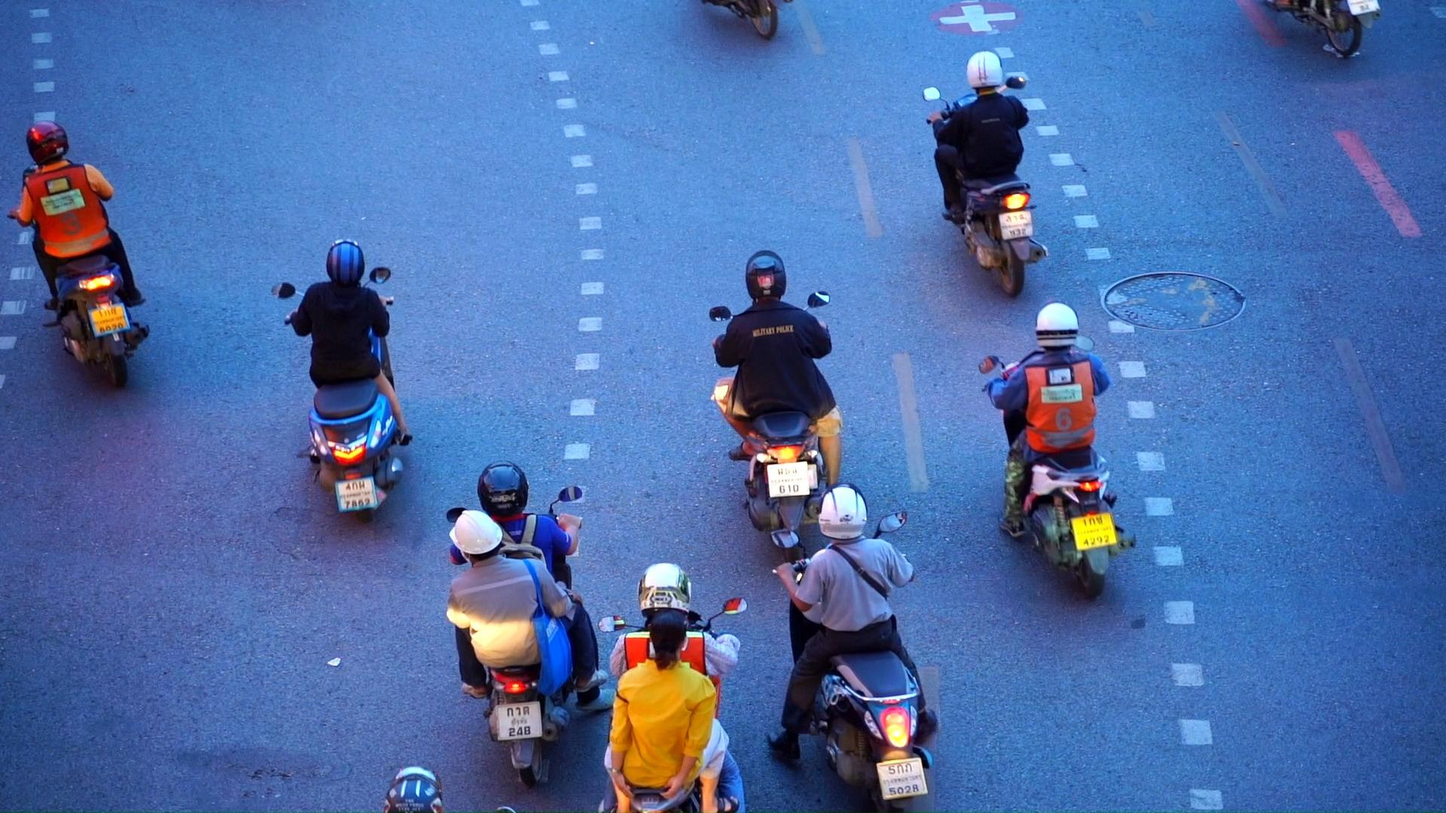driver: (447, 459, 616, 789), (771, 481, 938, 813), (977, 298, 1137, 600), (709, 248, 845, 563), (270, 238, 414, 524), (6, 120, 150, 388), (598, 561, 749, 813), (923, 48, 1049, 297)
helmet: (448, 510, 503, 568), (637, 562, 692, 619), (477, 460, 529, 518), (818, 482, 868, 540), (383, 766, 443, 813), (1035, 298, 1080, 352), (746, 248, 787, 305), (26, 121, 69, 166), (326, 239, 365, 288), (967, 48, 1003, 89)
no-helmet: (649, 610, 690, 671)
